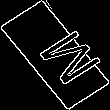M_SW: (17, 22, 93, 88)
